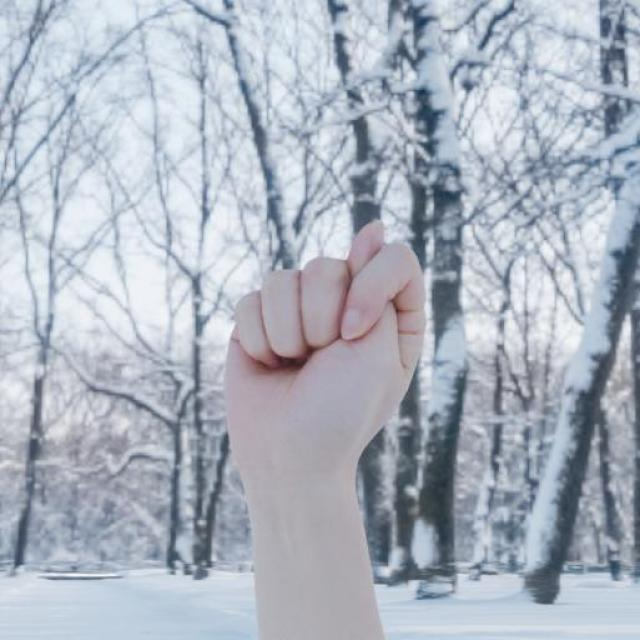T: (215, 216, 432, 469)
